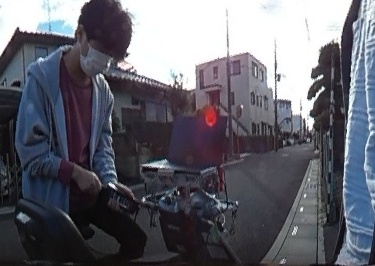person: (13, 2, 140, 256)
